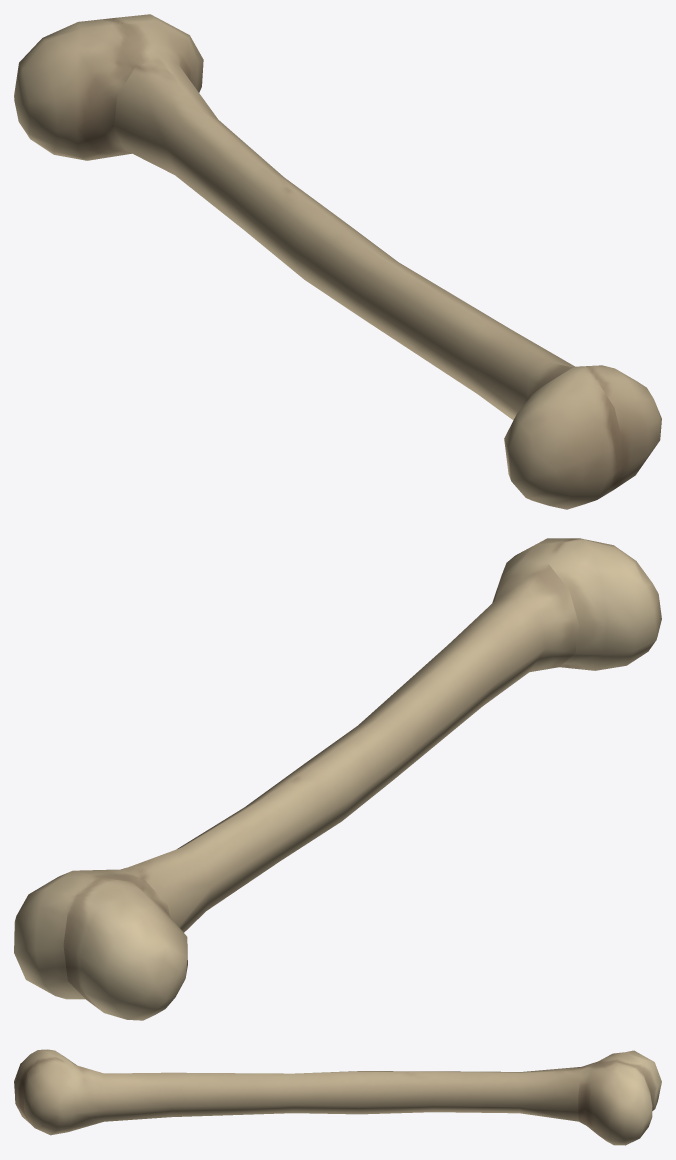
3 renders of one model, top to bottom at view 1: azimuth 30°, elevation 25°; view 2: azimuth 150°, elevation 25°; view 3: azimuth 270°, elevation 25°, orthographic. The views are drawn at different scales.
Parts seen in each view (by area): view 1: submesh_0; view 2: submesh_0; view 3: submesh_0.
Part boxes in pixels (box(x1,y1,x2,y2)): submesh_0: box(14, 14, 661, 509); submesh_0: box(14, 538, 661, 1020); submesh_0: box(14, 1049, 661, 1145).
Bounding box in the file's own units: 0.1025 × 0.0745 × 0.5609.
Materials: 1 (1 with a texture image).
